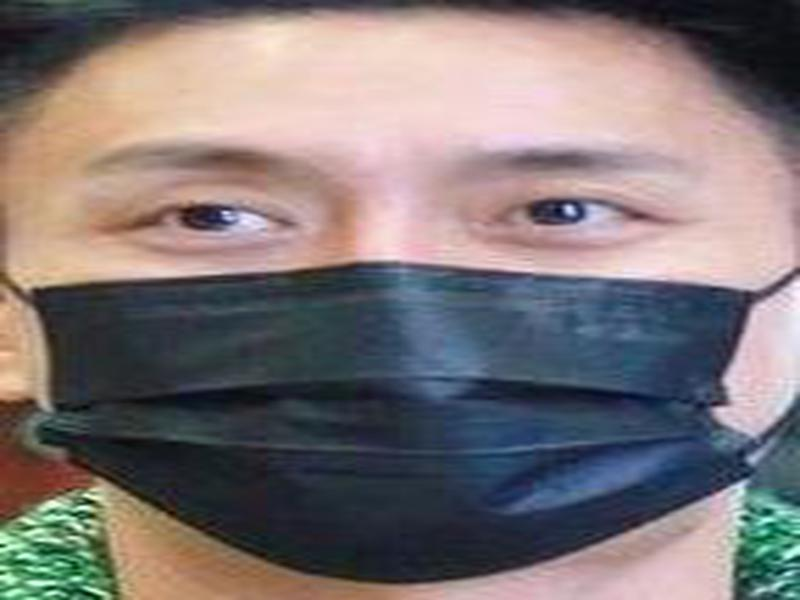with_mask: (1, 10, 792, 585)
